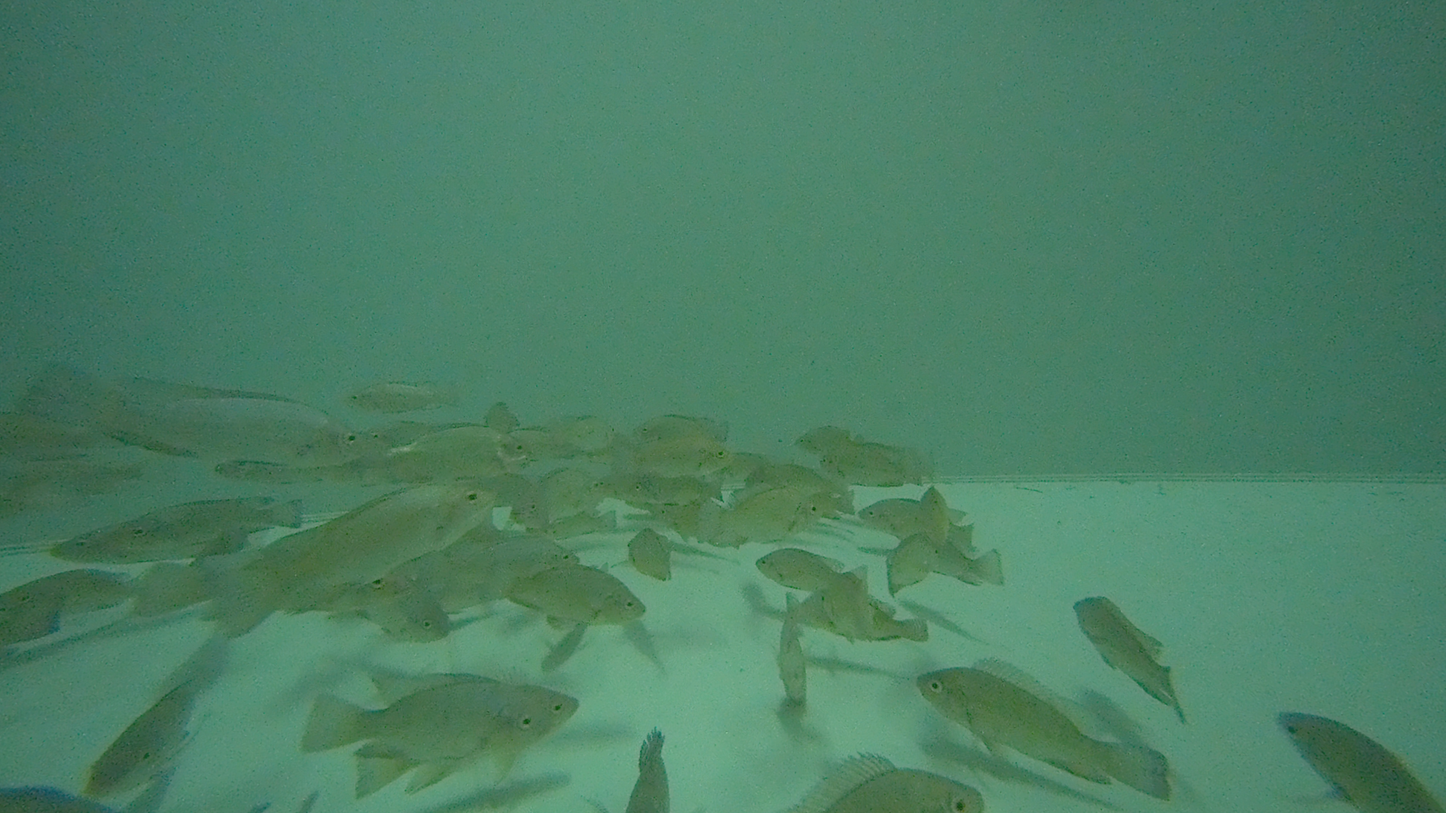fish: (485, 565, 646, 626), (611, 435, 729, 480)
